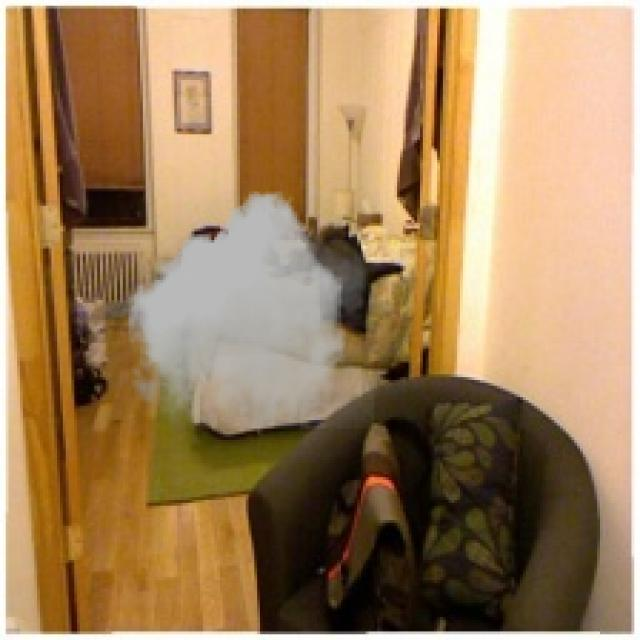smoke: (123, 192, 374, 428)
